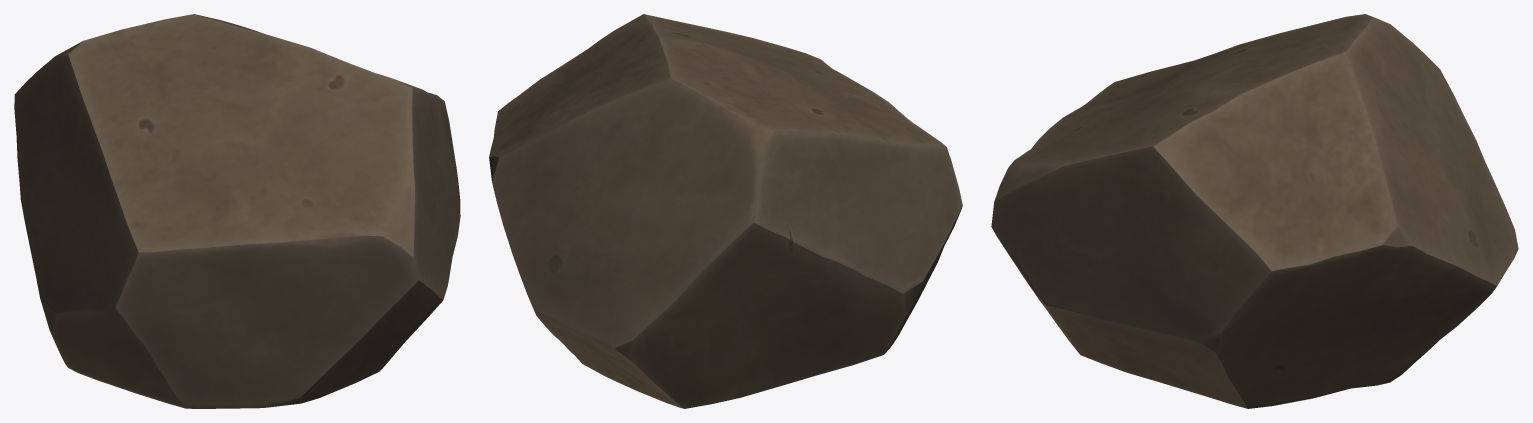
File: stone2.obj
3 renders of one model, left to right at view 1: azimuth 30°, elevation 25°; view 2: azimuth 150°, elevation 25°; view 3: azimuth 270°, elevation 25°, orthographic. The views are drawn at different scales.
Visible parts, largest first — view 1: ST_Stone4; view 2: ST_Stone4; view 3: ST_Stone4.
Part boxes in pixels (x1,y1,x2,y2): ST_Stone4: [14, 14, 460, 408]; ST_Stone4: [489, 14, 962, 408]; ST_Stone4: [991, 14, 1518, 408].
Size of the model in its own units: 1.31 by 0.9057 by 1.43.
1 material, 1 textured.
